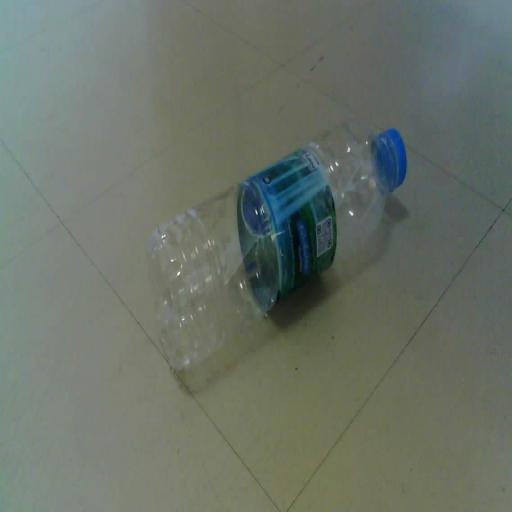bottle: (126, 92, 425, 392)
